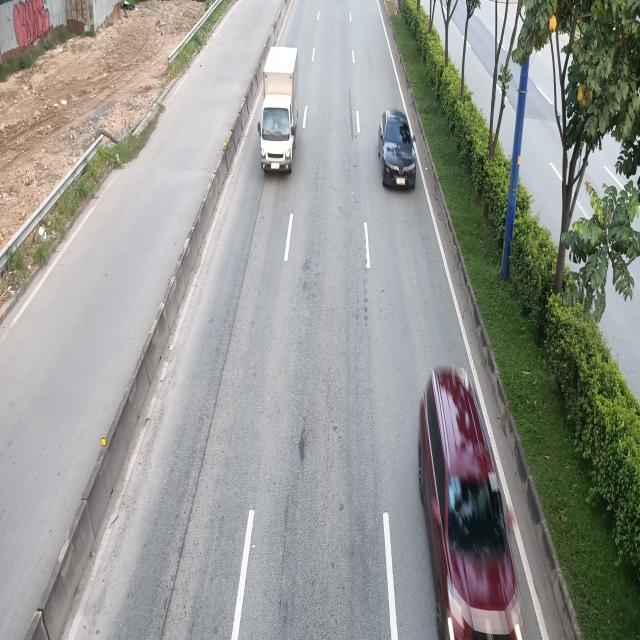car: (415, 369, 527, 640), (380, 108, 419, 189)
truck: (258, 45, 299, 173)
